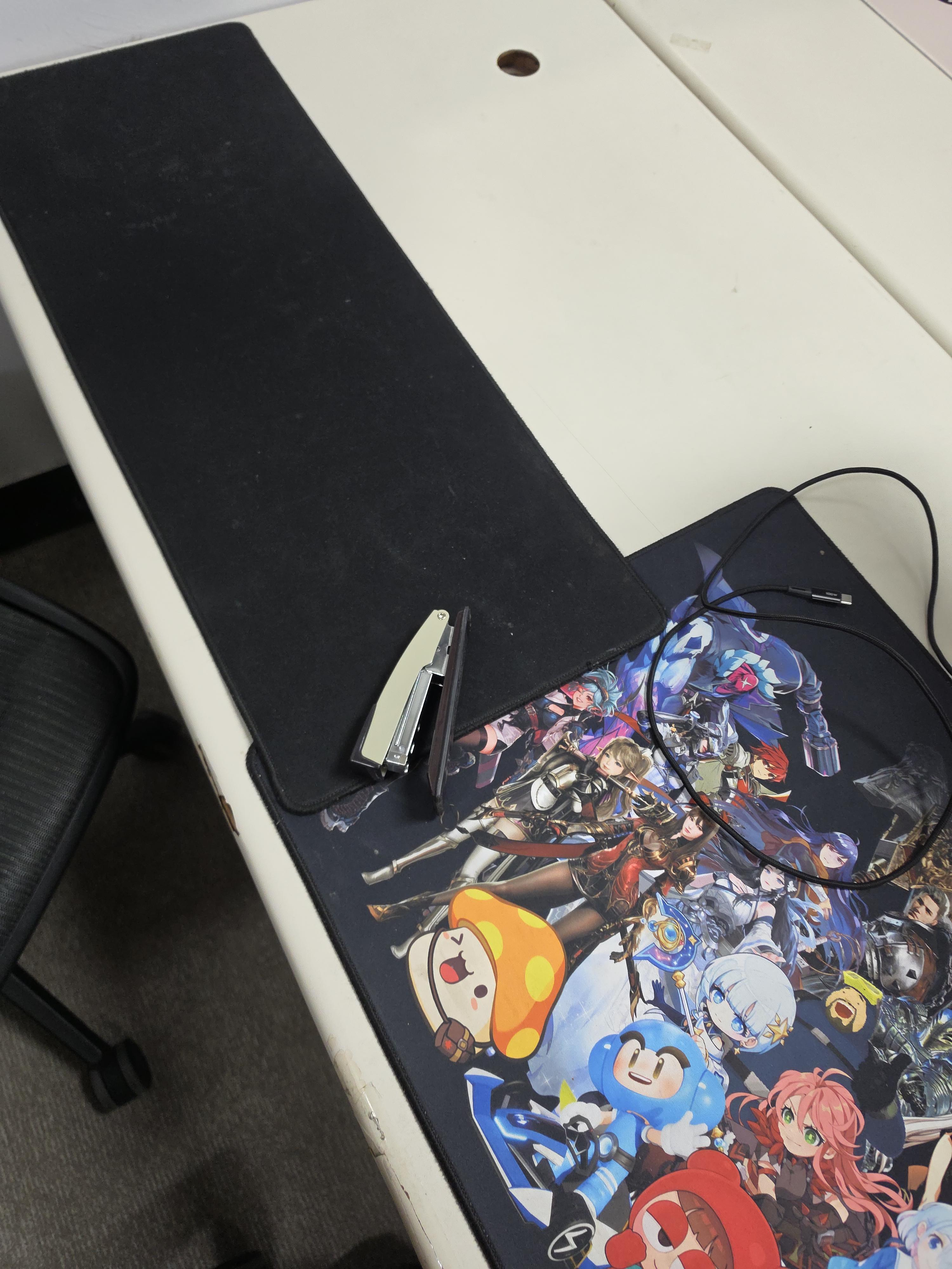stapler: (350, 606, 471, 815)
